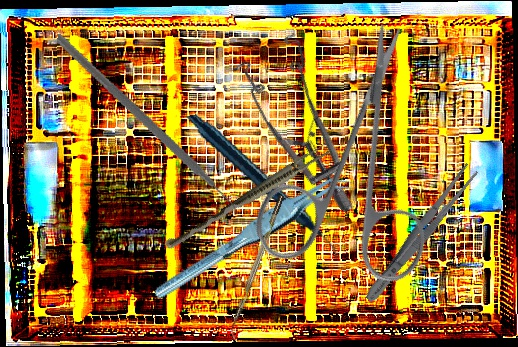Chopper: (26, 33, 264, 229), (225, 194, 291, 342)
Dressing Forceps: (360, 161, 481, 307)
Handpiece: (185, 92, 339, 282)
Iris Scissors: (197, 17, 511, 333)
Speculum: (201, 15, 416, 215)
Tissue Forceps: (140, 168, 365, 303), (163, 138, 333, 257)
